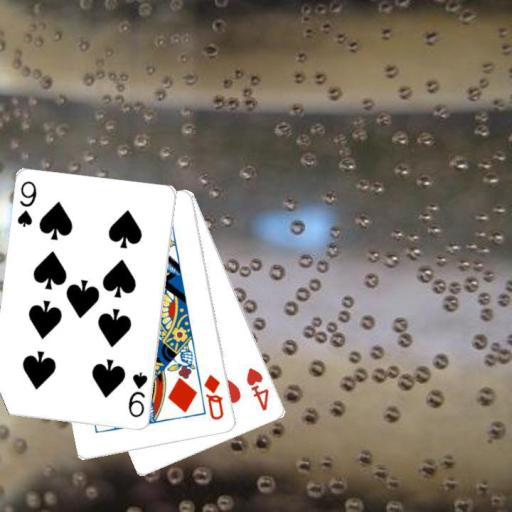4H: (243, 365, 271, 412)
9S: (125, 369, 149, 420), (15, 178, 39, 229)
QD: (201, 371, 226, 422)
